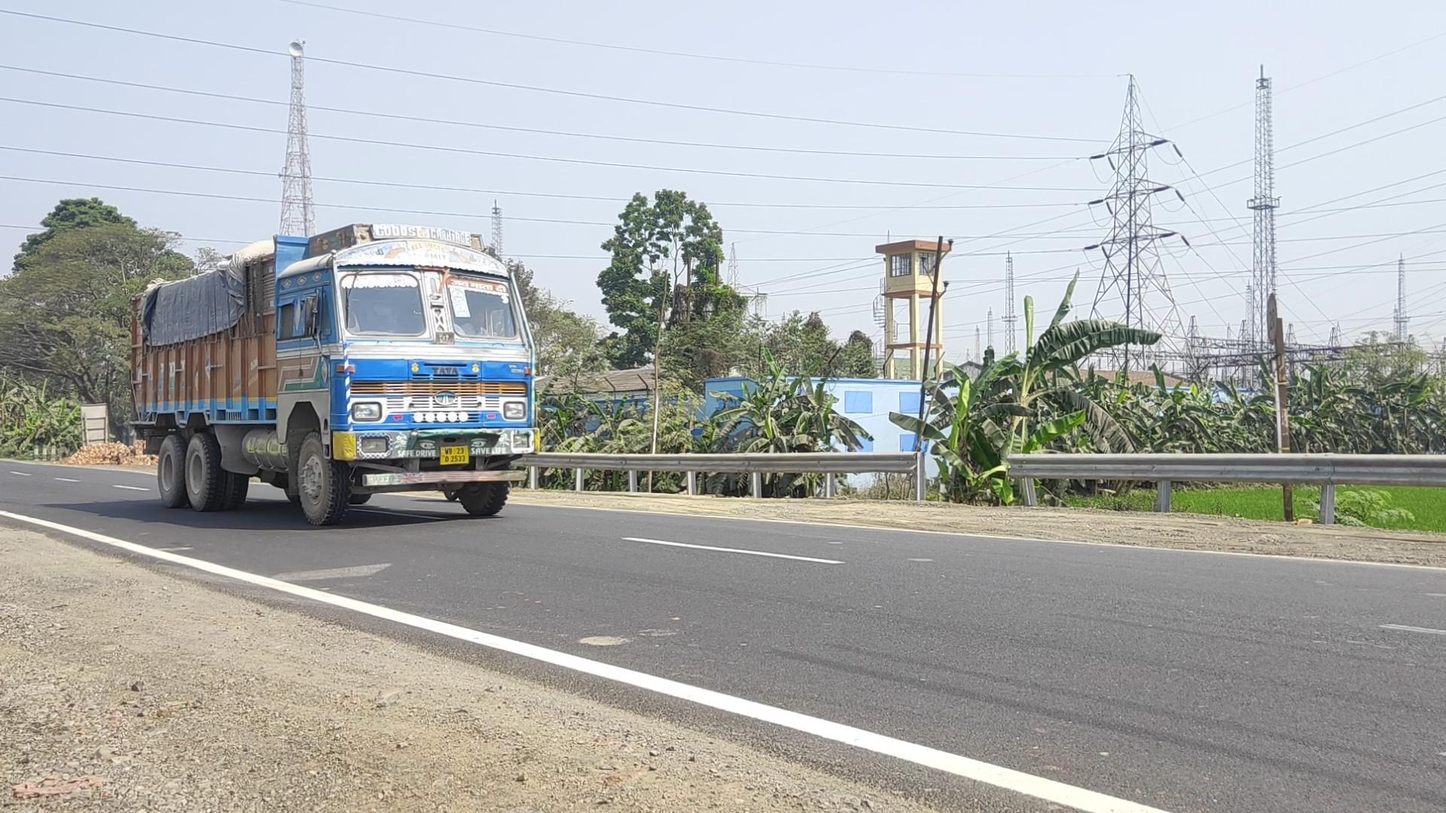truck: (130, 225, 535, 527)
